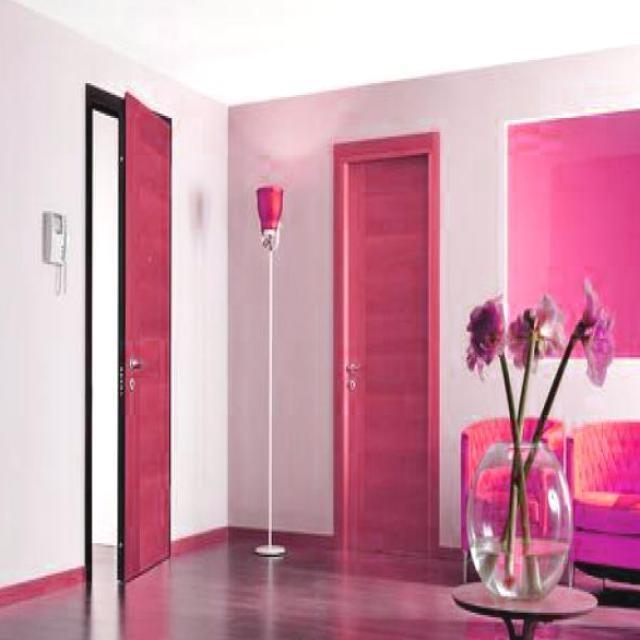door: (331, 102, 459, 604), (115, 87, 176, 582)
